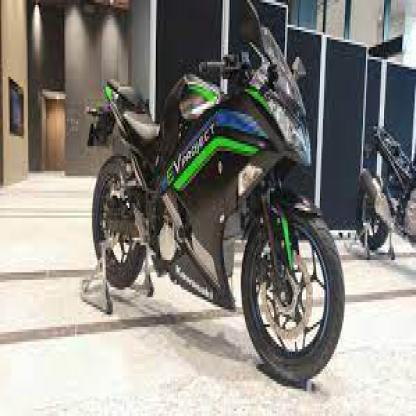Motorcycle: (71, 0, 346, 380)
